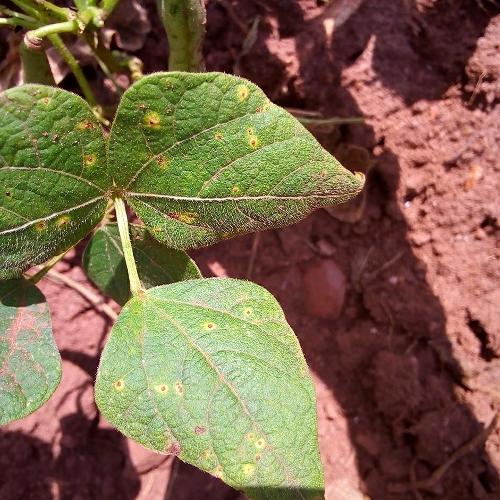hawar: (126, 303, 306, 489), (134, 90, 280, 232)
